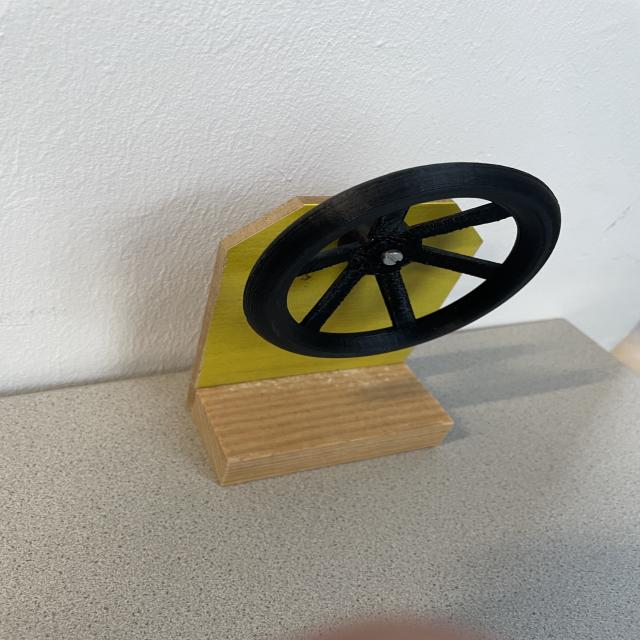Wheel Handle Valve Threaded: (241, 160, 562, 359)
